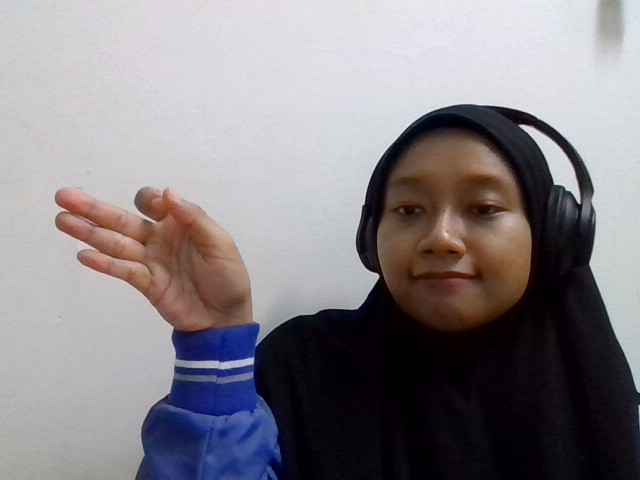Angsa: (53, 182, 256, 329)
